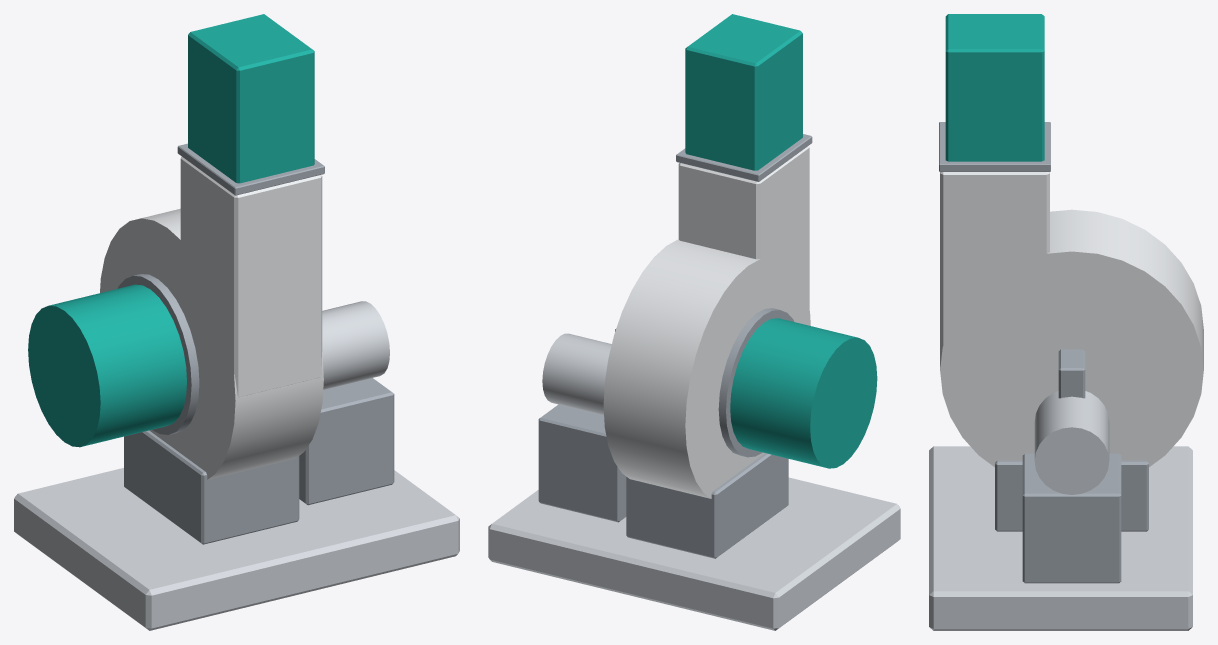
The model's file is exhaust-fan.glb.
3 renders of one model, left to right at view 1: azimuth 30°, elevation 25°; view 2: azimuth 150°, elevation 25°; view 3: azimuth 270°, elevation 25°, orthographic. The views are drawn at different scales.
Visible parts, largest first — view 1: exhaust-fan; view 2: exhaust-fan; view 3: exhaust-fan.
Part boxes in pixels (x1,y1,x2,y2): exhaust-fan: [14, 14, 459, 630]; exhaust-fan: [488, 14, 900, 630]; exhaust-fan: [929, 14, 1203, 630].
Bounding box in the file's own units: 1.65 × 2.6 × 1.25.
